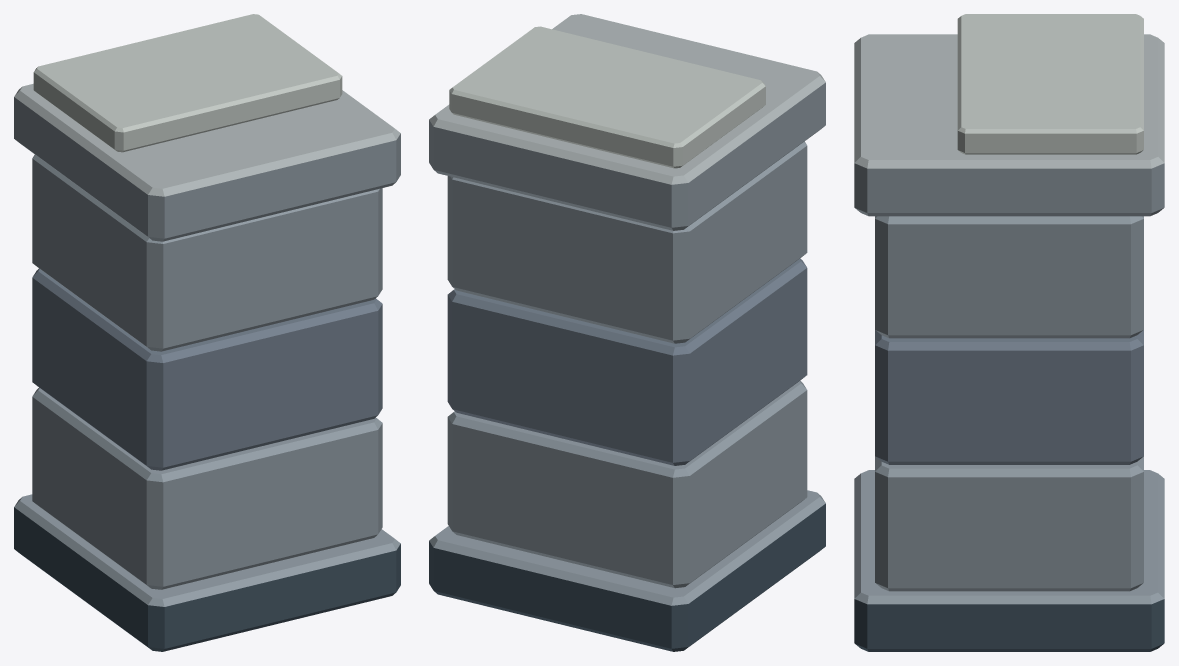
The model's file is wall-end.glb.
3 views of the same model, side by side, from view 1: azimuth 30°, elevation 25°; view 2: azimuth 150°, elevation 25°; view 3: azimuth 270°, elevation 25° (orthographic). The views are drawn at different scales.
Parts seen in each view (by area): view 1: wall-end__body; view 2: wall-end__body; view 3: wall-end__body.
Boxes of the visible parts, left/top/right/bottom form: wall-end__body: left=14, top=14, right=400, bottom=651; wall-end__body: left=429, top=14, right=825, bottom=651; wall-end__body: left=854, top=14, right=1164, bottom=651.
Bounding box in the file's own units: 0.6 × 1.11 × 0.6.
